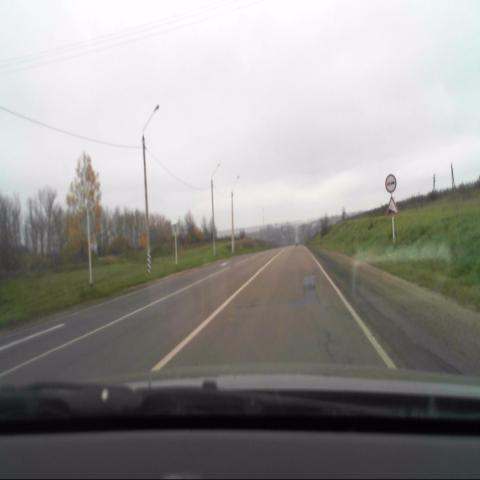1_13: (385, 197, 398, 217)
